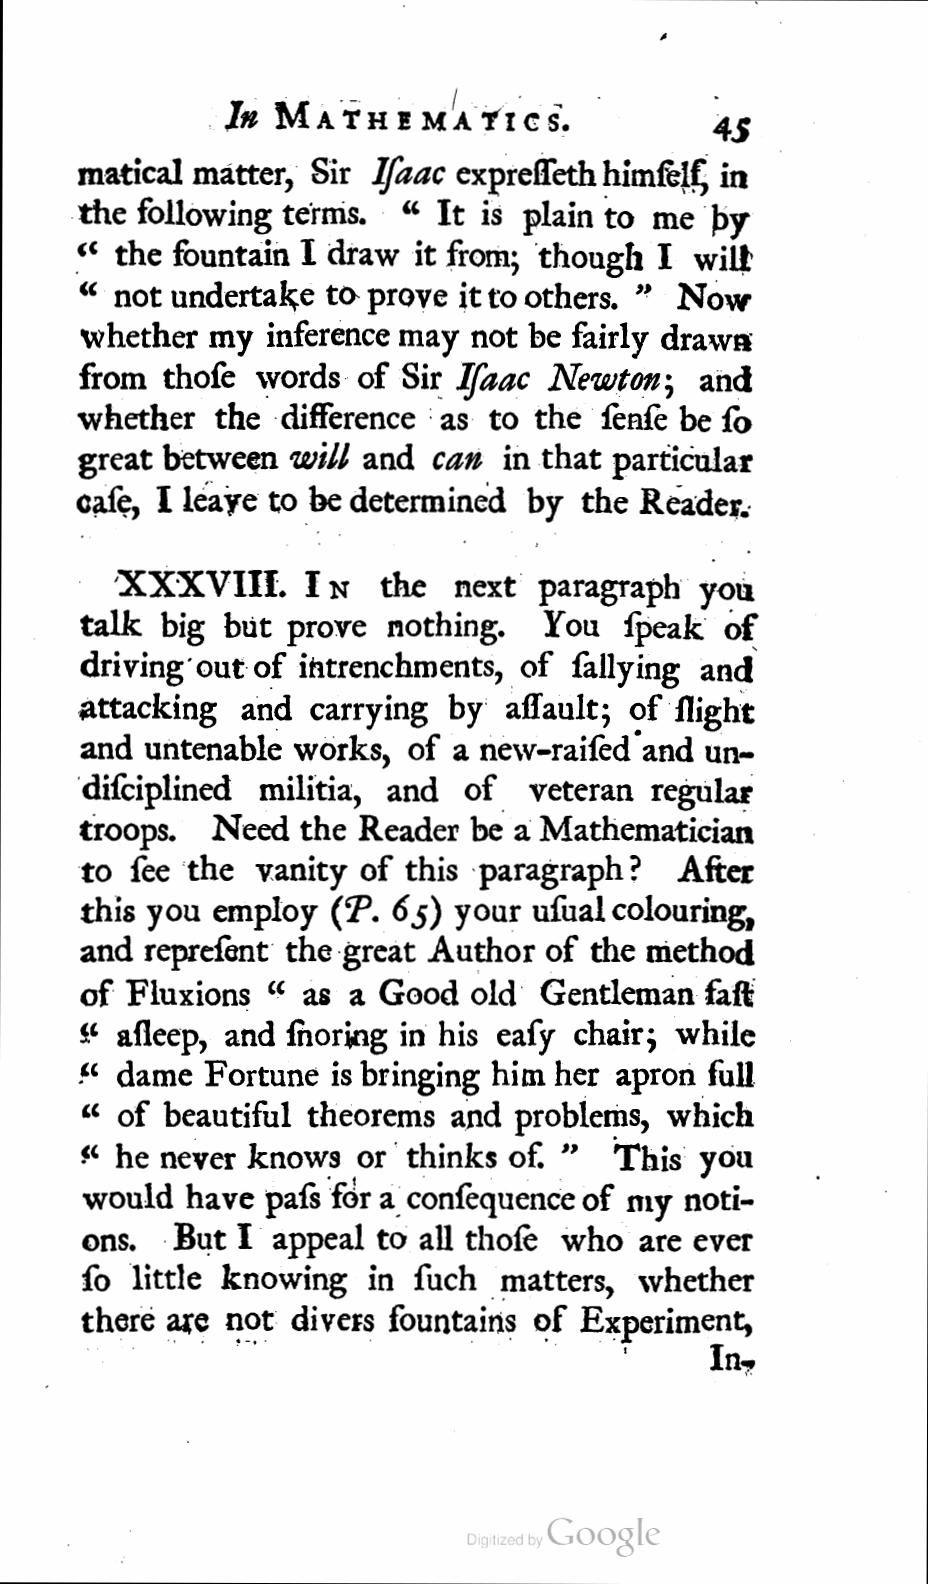bottom_p: (70, 152, 758, 524)
catchword: (704, 1340, 758, 1374)
header: (218, 94, 574, 136)
page_num: (710, 110, 753, 148)
top_p: (76, 564, 760, 1344)
